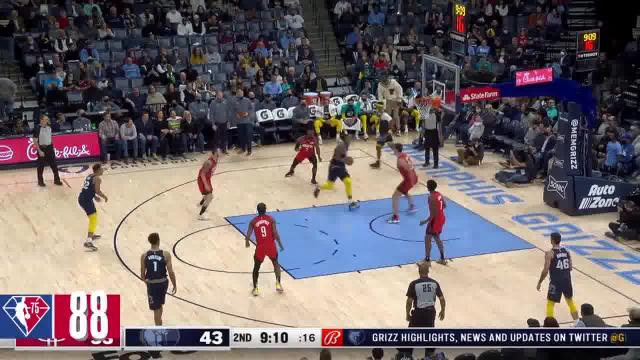ball-handler: (322, 128, 360, 210)
player: (241, 200, 292, 297), (534, 231, 582, 326), (140, 231, 179, 327), (76, 160, 109, 252), (420, 176, 449, 266), (391, 140, 422, 222), (284, 122, 320, 185), (372, 100, 402, 172), (195, 147, 223, 222)
